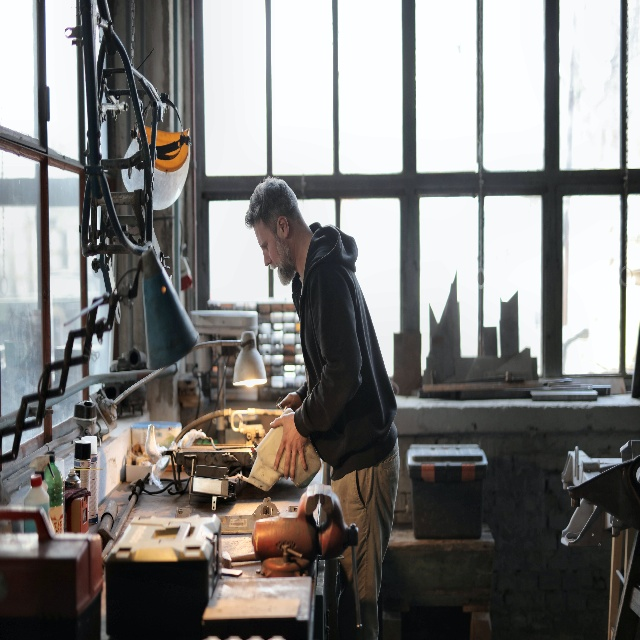Sin_guantes: (269, 412, 308, 482), (277, 392, 301, 413)
